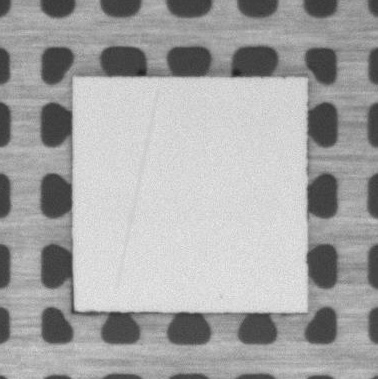DIE_CRACK: (117, 90, 158, 288)
